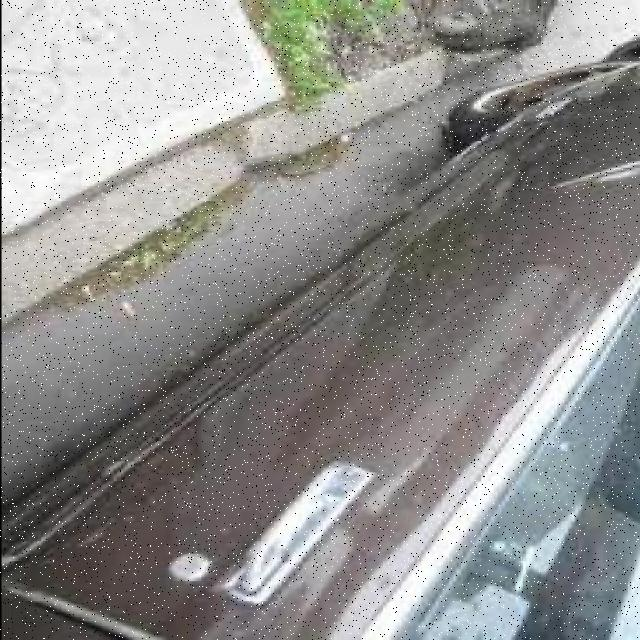damage: (0, 395, 222, 562), (549, 151, 639, 198)
